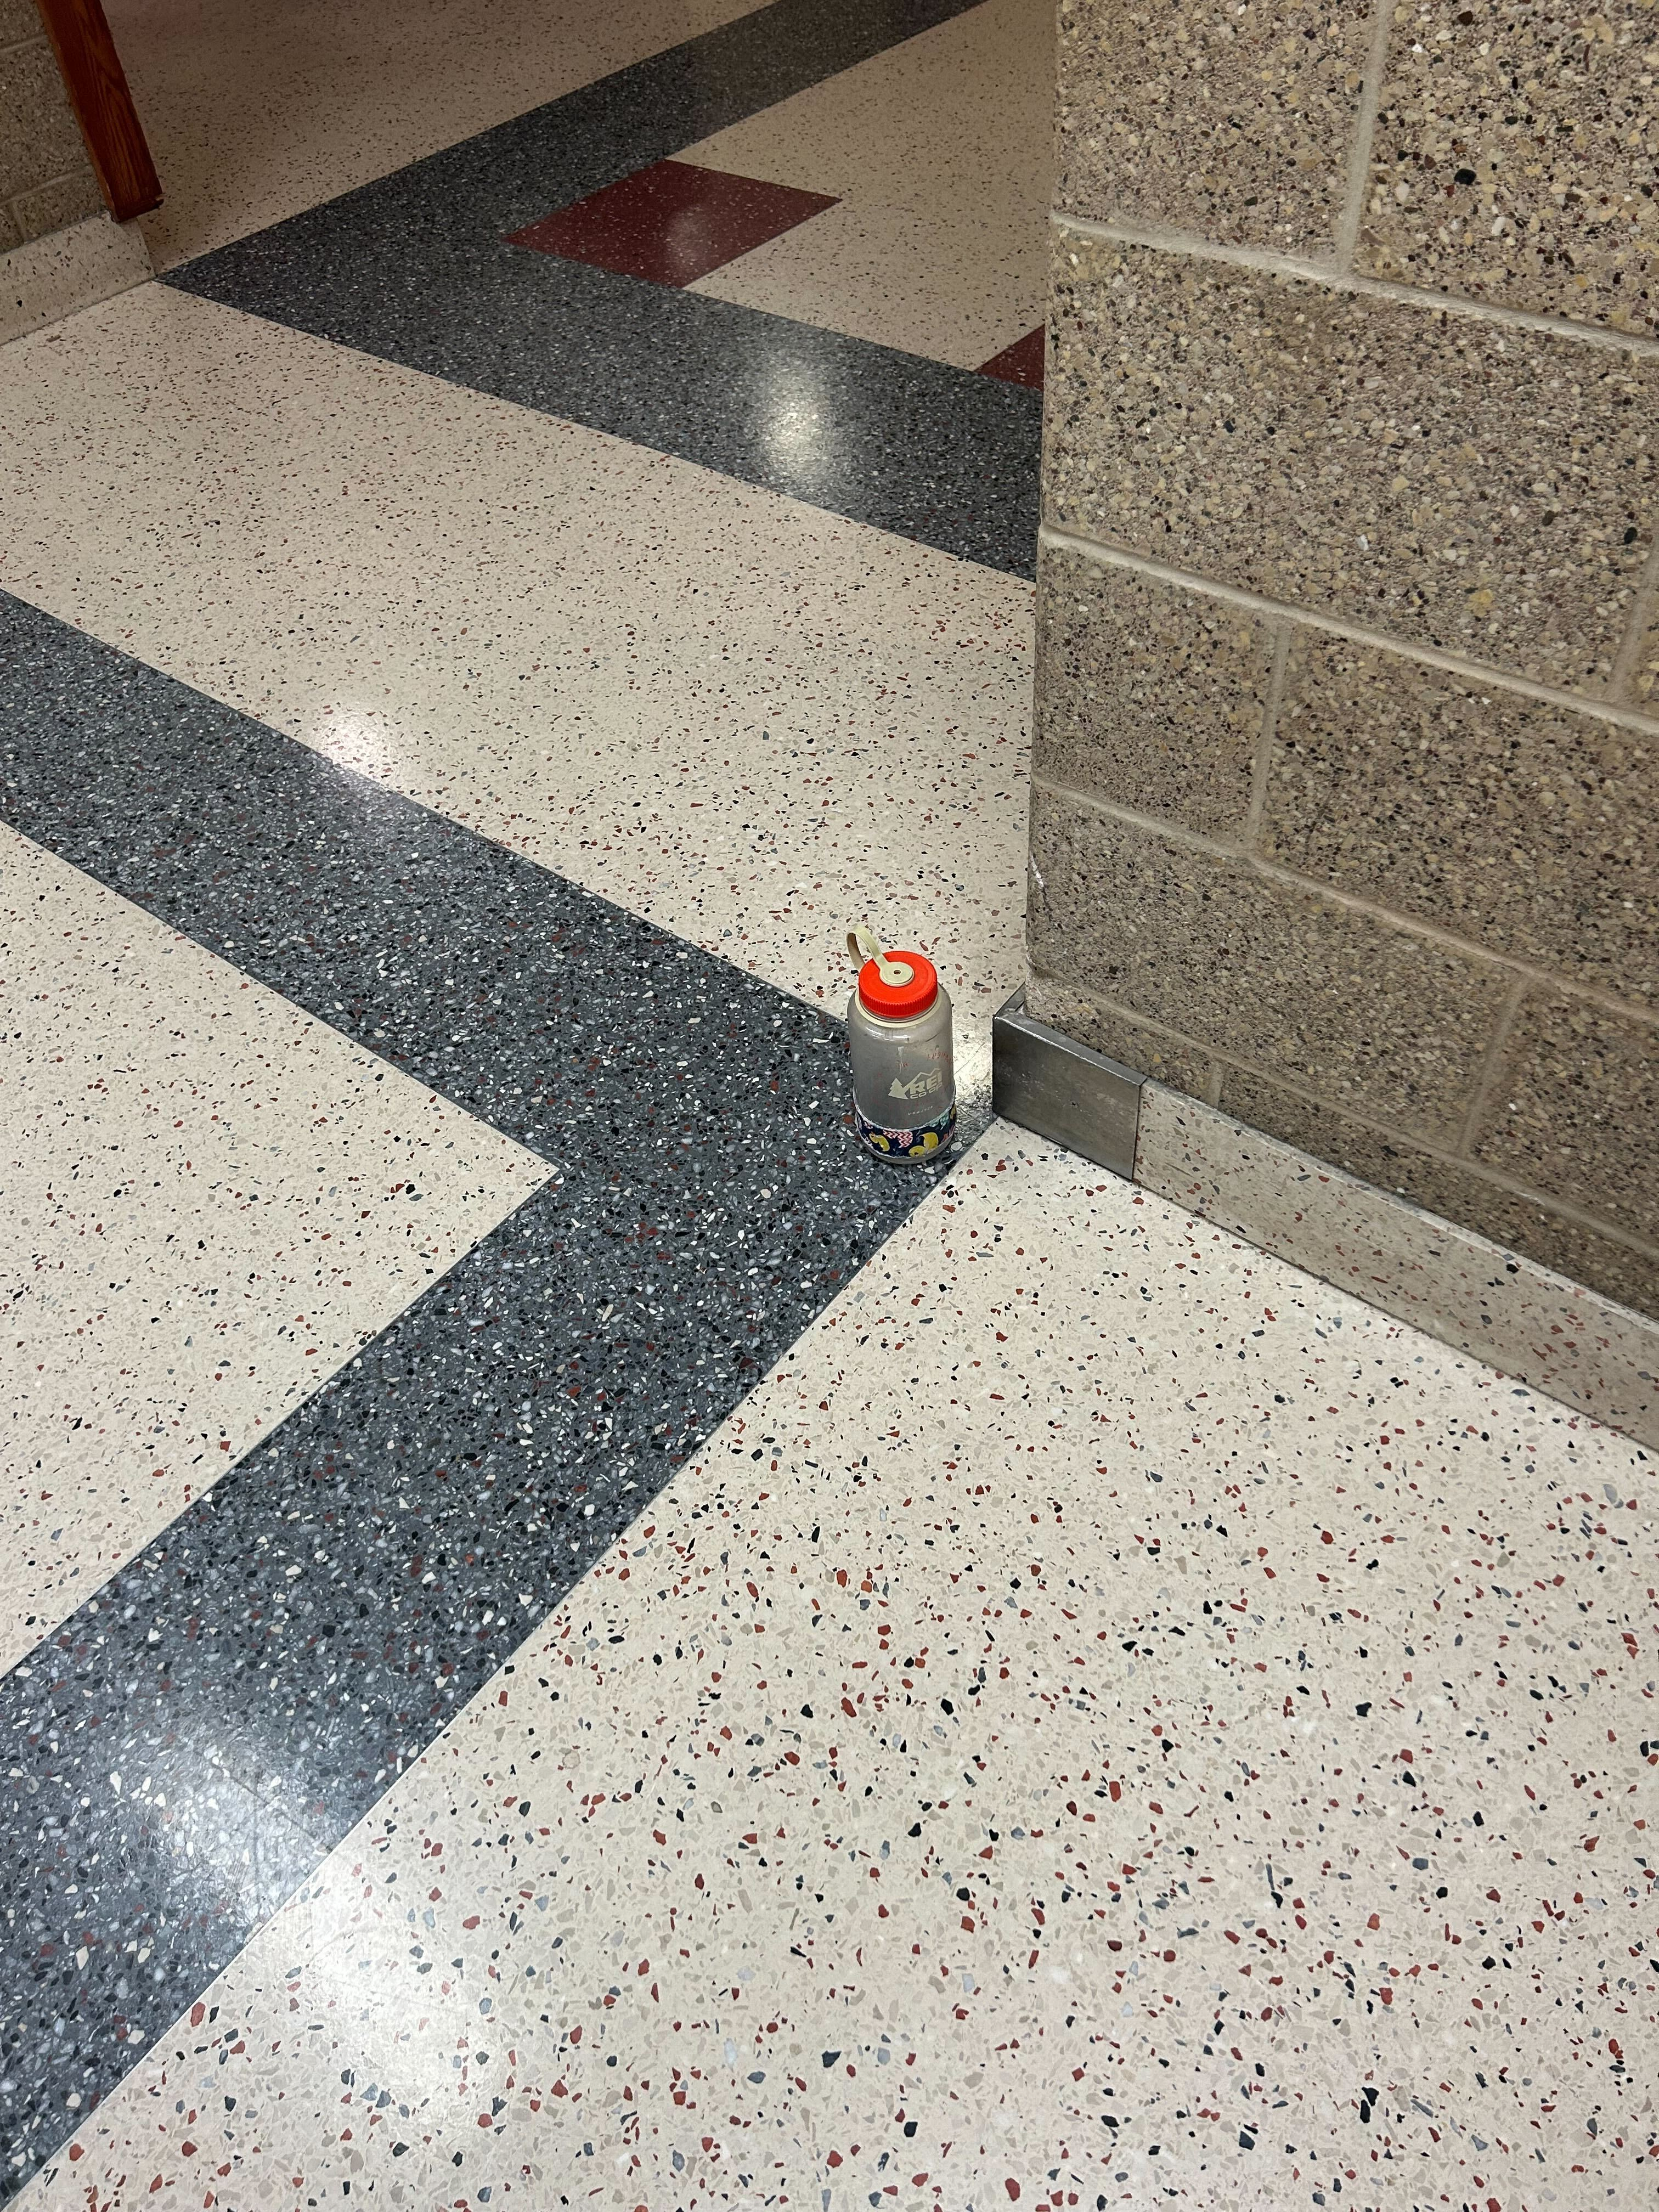bottle: (842, 913, 960, 1172)
